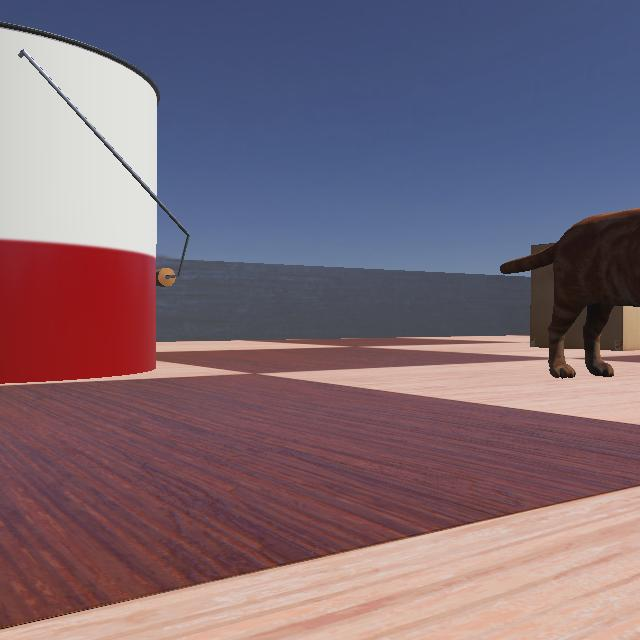cat: (494, 187, 640, 395), (494, 187, 640, 395)
paint-bucket: (0, 8, 230, 390)
